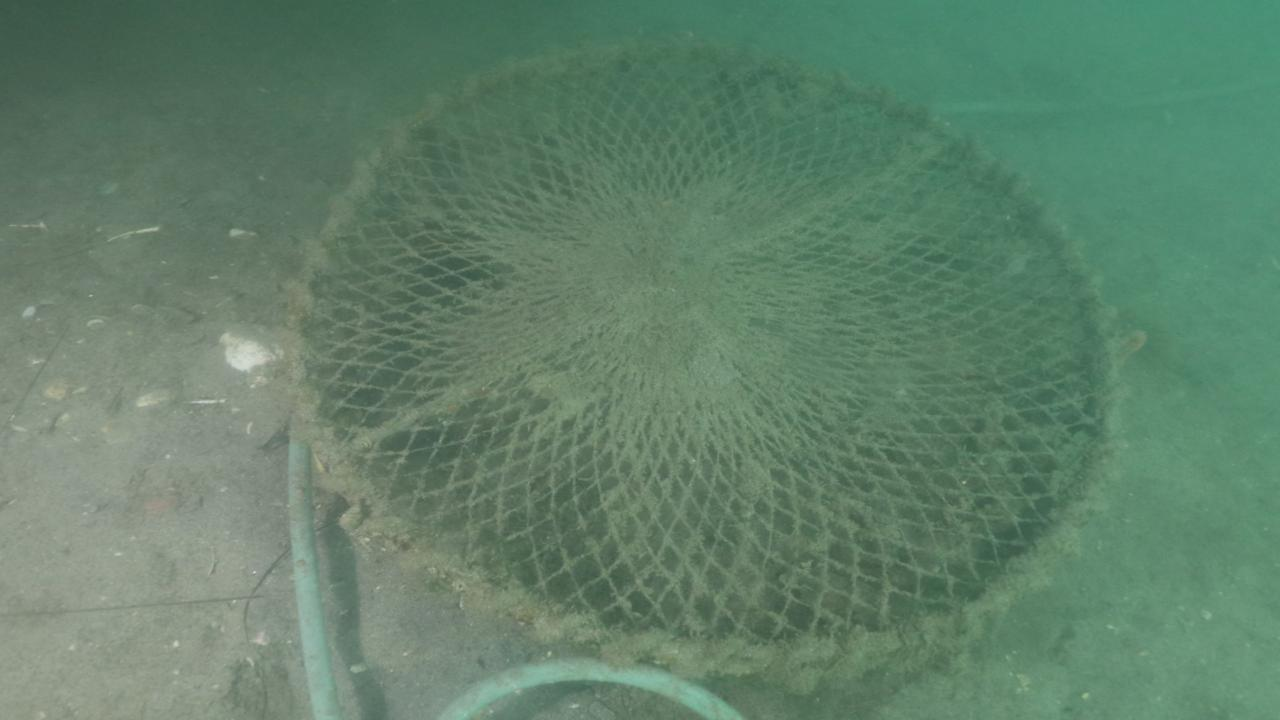circular fish trap: (288, 39, 1125, 670)
